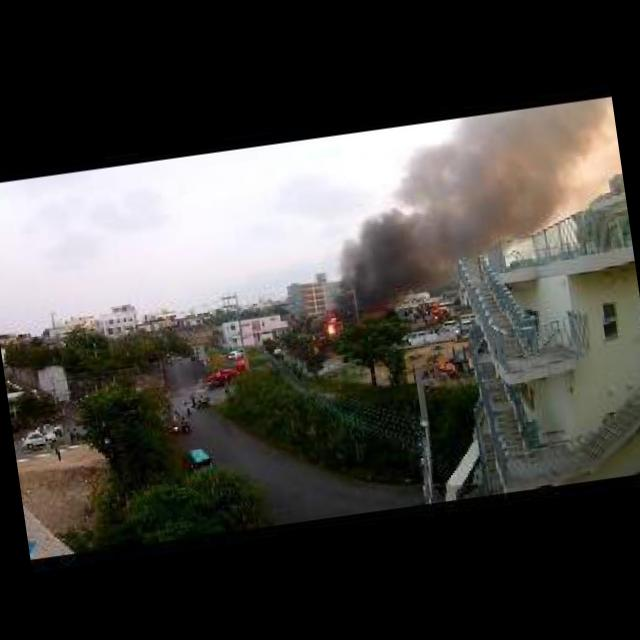fire: (325, 316, 340, 334)
smoke: (388, 99, 632, 268), (326, 204, 426, 336)
